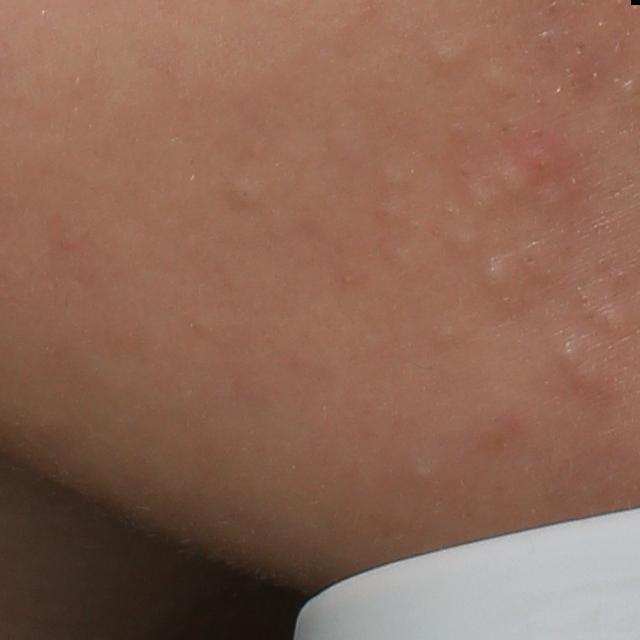comedo: (225, 172, 278, 216), (584, 298, 634, 343), (441, 224, 485, 258), (435, 41, 481, 71), (481, 255, 513, 292), (555, 342, 583, 367)
